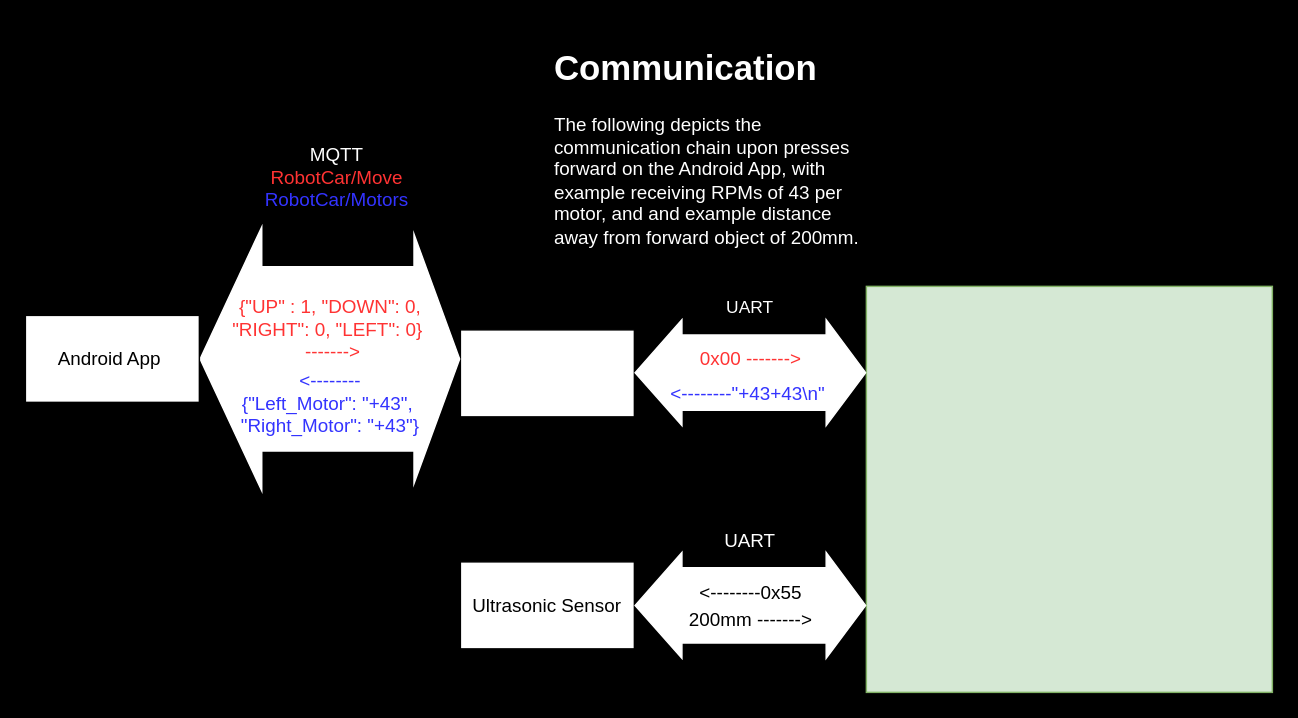
Some shapes in this 1298 by 718 pixel diagram are drawn without their labels. The shapes that lost their labels are listed below. From the top down, each one's centre as x and y in pixels, then its label:
the point at 546,372: Raspberry Pi
the point at 1068,488: NEXYS A7
